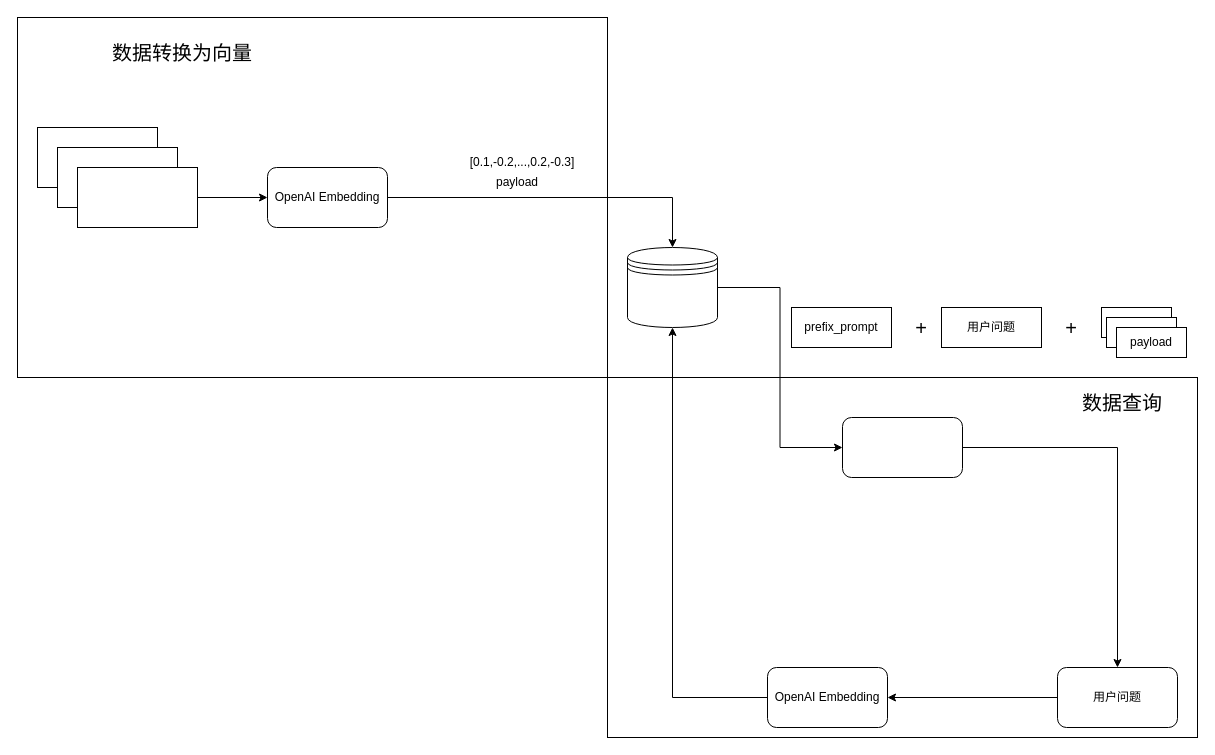
This 1215x755 diagram has some shape labels left out. Each missing label, with the centre of its shape:
"GPT-3.5" belongs at (x=902, y=447).
"向量数据库" belongs at (x=672, y=287).
"数据集" belongs at (x=137, y=197).
